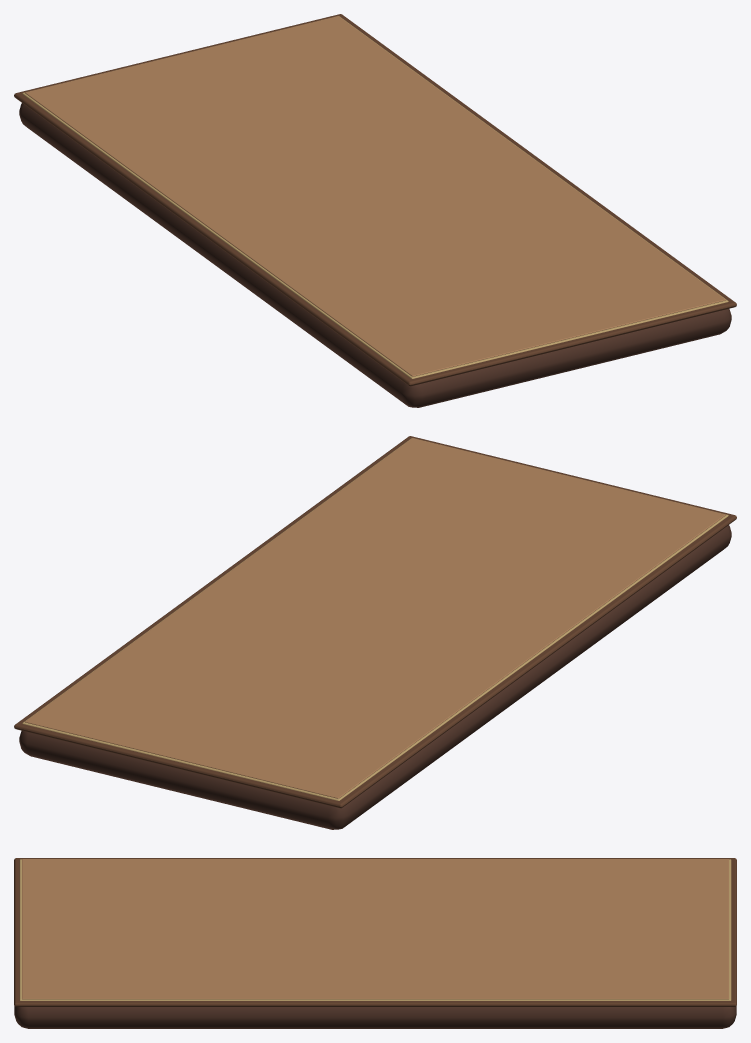
The model's file is PP_Kit_DisplayBase.fbx.
3 renders of one model, top to bottom at view 1: azimuth 30°, elevation 25°; view 2: azimuth 150°, elevation 25°; view 3: azimuth 270°, elevation 25°, orthographic. The views are drawn at different scales.
Parts seen in each view (by area): view 1: KIT_DisplayBase; view 2: KIT_DisplayBase; view 3: KIT_DisplayBase.
Boxes of the visible parts, box(x1,y1,x2,y2) form: KIT_DisplayBase: box(14, 14, 736, 407); KIT_DisplayBase: box(14, 436, 736, 829); KIT_DisplayBase: box(14, 858, 736, 1028).
Bounding box in the file's own units: 397 × 40.5 × 829.
